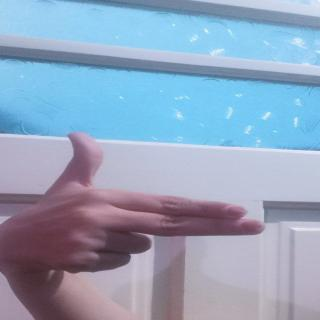GHAYN: (3, 121, 269, 270)
